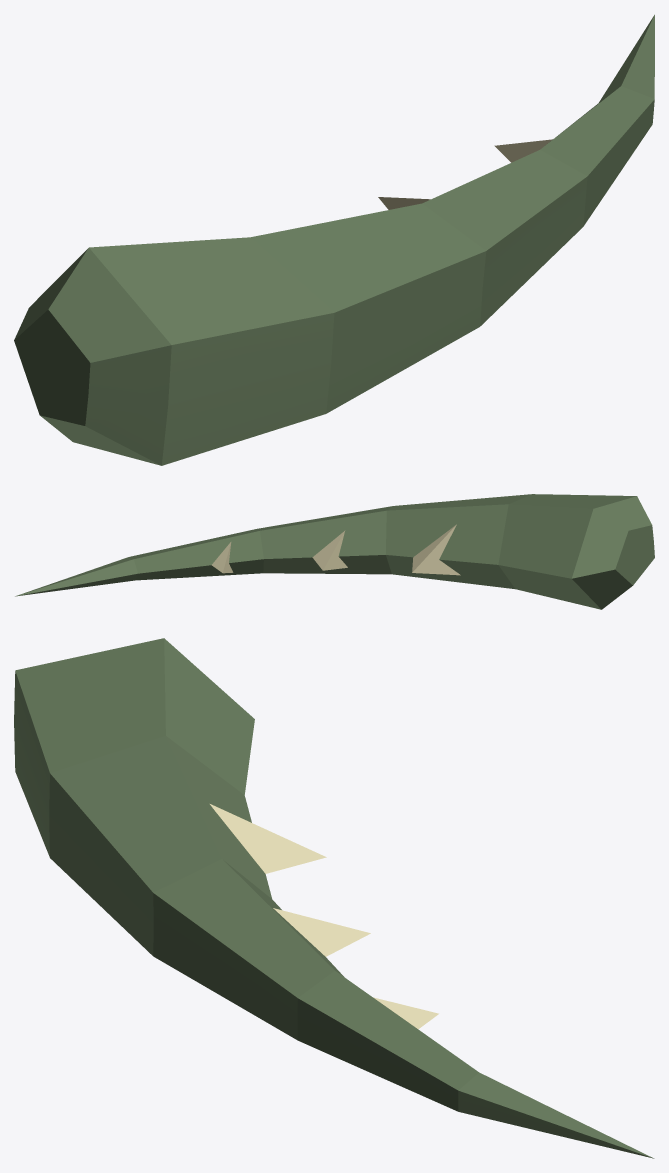
The model's file is MouthR.fbx.
The picture shows the model from 3 angles, top to bottom: view 1: azimuth 30°, elevation 25°; view 2: azimuth 150°, elevation 25°; view 3: azimuth 270°, elevation 25°; orthographic projection. The views are drawn at different scales.
Parts seen in each view (by area): view 1: Claw12; view 2: Claw12; view 3: Claw12.
Boxes of the visible parts, bbox=[...] form: Claw12: bbox=[14, 14, 654, 465]; Claw12: bbox=[15, 494, 654, 609]; Claw12: bbox=[14, 638, 654, 1158].
Size of the model in its own units: 2.56 by 0.5155 by 1.76.
